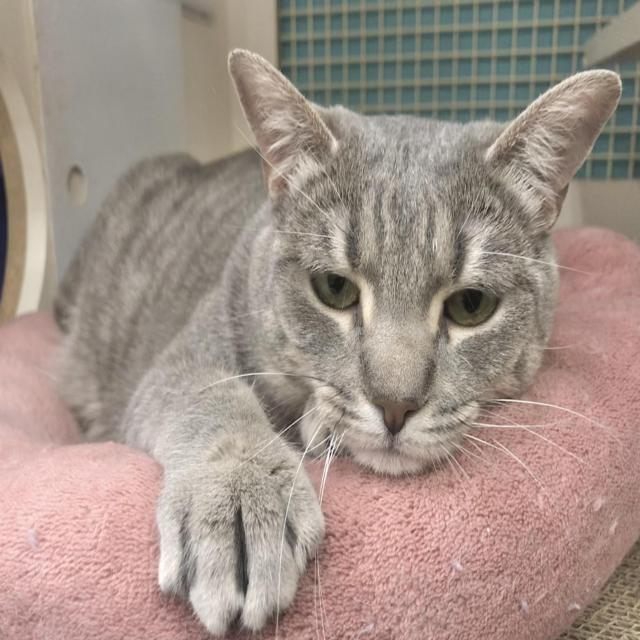american_shorthair_cat: (221, 34, 626, 487)
